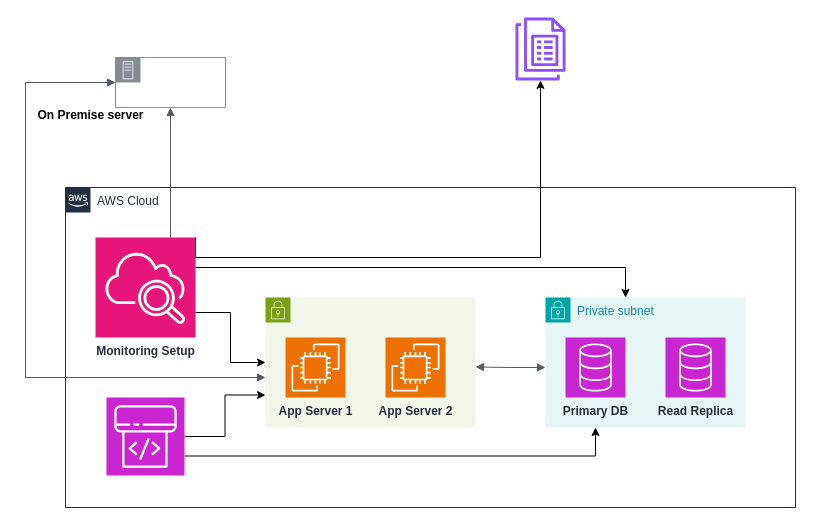
Image size: 813x525. Some labels were removed from this diagram. The box of each missing label's shape, as (x1, y1, x2, y2) in pixels:
Data Reporting: (515, 17, 565, 80)
Deployment Automation: (106, 396, 184, 476)
On-Premise: (114, 56, 226, 108)
Public subnet: (264, 296, 476, 428)
